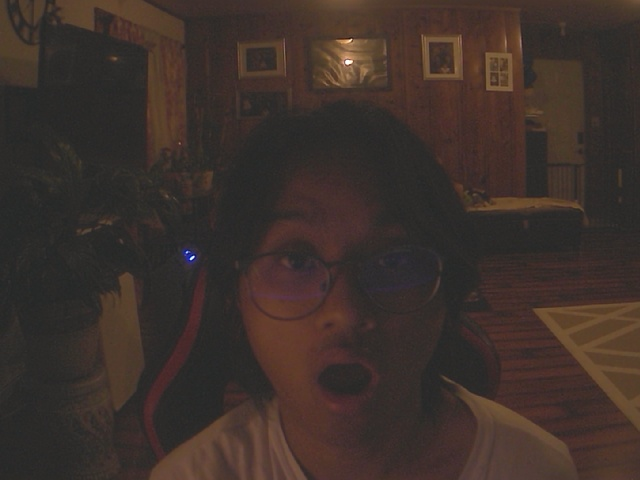fear: (208, 95, 479, 460)
